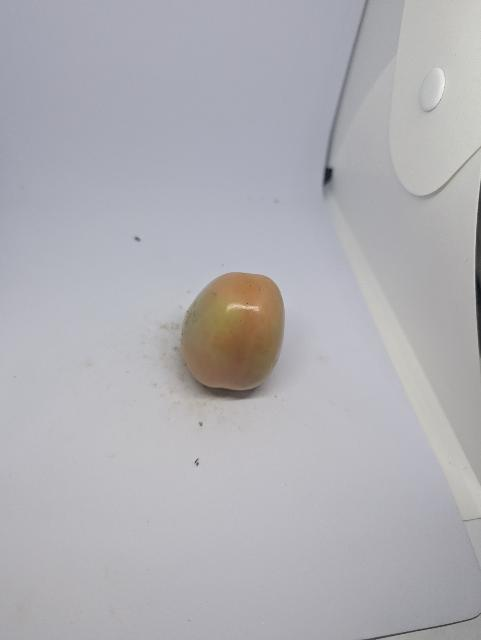breaker: (182, 272, 285, 390)
